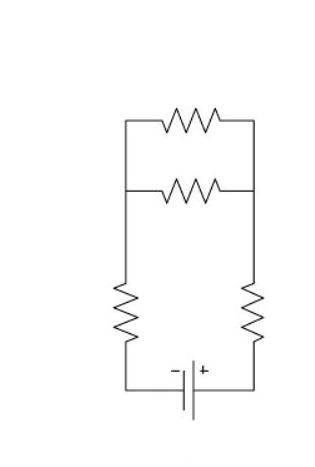resistor: (232, 242, 284, 355), (98, 260, 146, 361), (141, 168, 246, 214), (145, 96, 240, 132)
